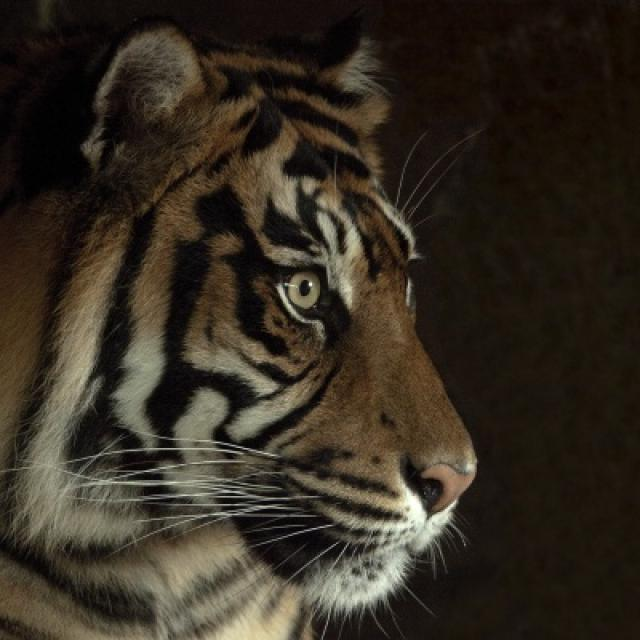Tiger: (0, 16, 475, 638)
